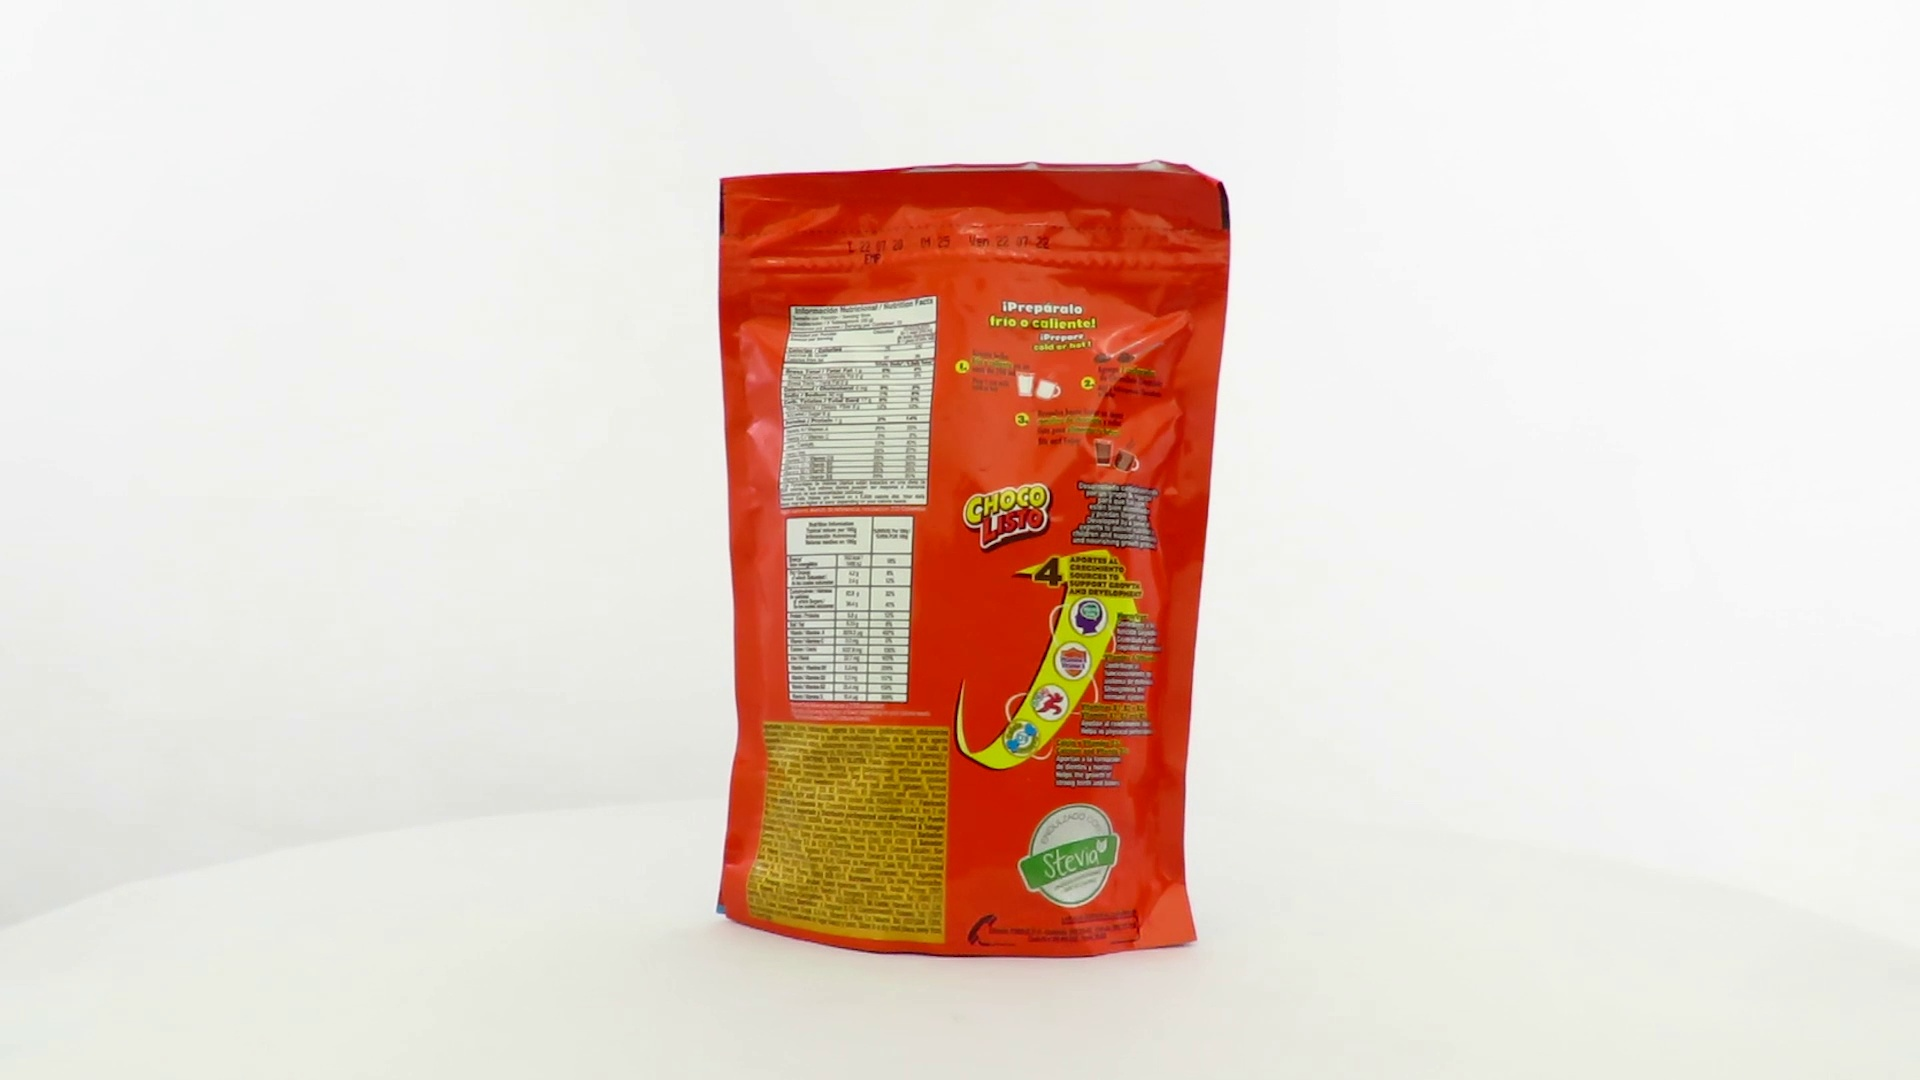COL0170104DYP20000: (711, 154, 1237, 965)
